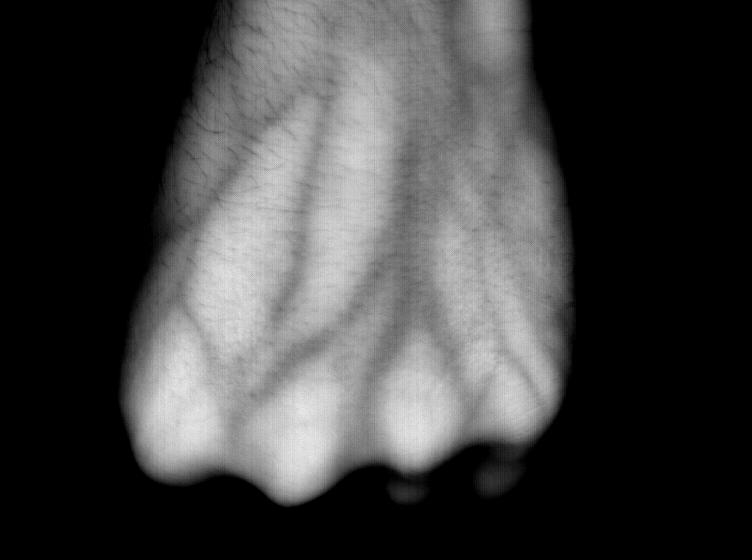Vein: (259, 131, 471, 411), (195, 51, 341, 330)
